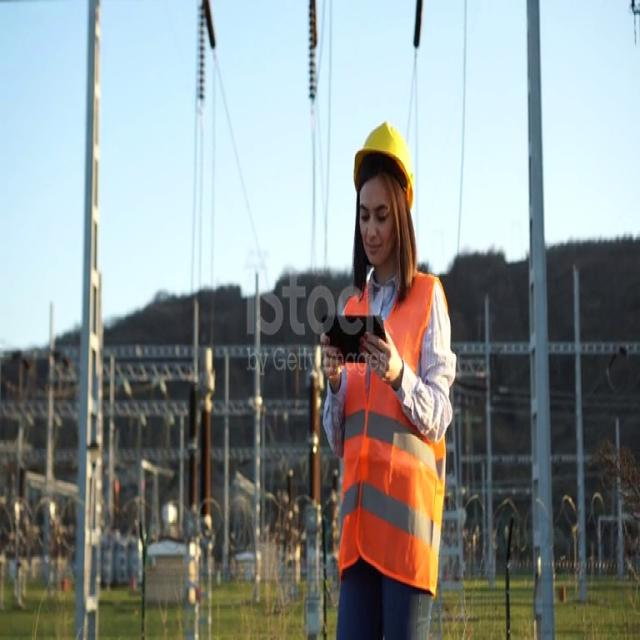capacete: (343, 86, 433, 216)
